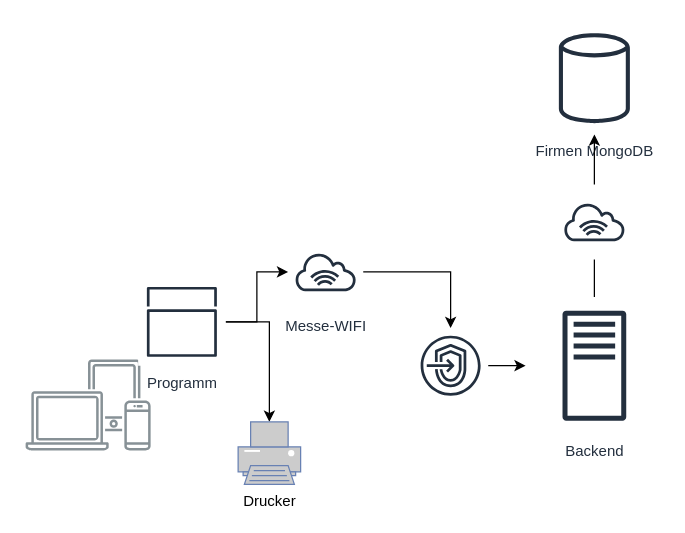
This 685x533 diagram has some shape labels left out. Each missing label, with the box of its shape:
Internet: (556, 183, 632, 259)
Laptop mit Webcam: (25, 359, 150, 450)
REST Endpoints: (412, 327, 488, 403)
